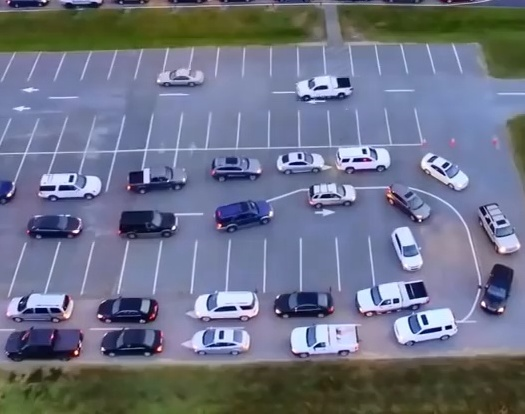V: (349, 278, 433, 316), (389, 307, 462, 347), (207, 198, 286, 234), (3, 327, 84, 361), (286, 321, 359, 356), (189, 288, 262, 323), (476, 202, 524, 255), (35, 170, 106, 204), (4, 289, 75, 323), (474, 259, 516, 316), (98, 324, 165, 359), (418, 152, 473, 194), (292, 71, 358, 105), (269, 287, 337, 319), (93, 293, 163, 323), (382, 184, 434, 223), (386, 225, 430, 271), (121, 164, 190, 193), (187, 326, 255, 355), (117, 208, 179, 239), (25, 209, 85, 241), (332, 144, 393, 172), (206, 155, 265, 181), (303, 182, 363, 207), (273, 148, 326, 174), (152, 67, 208, 87)
